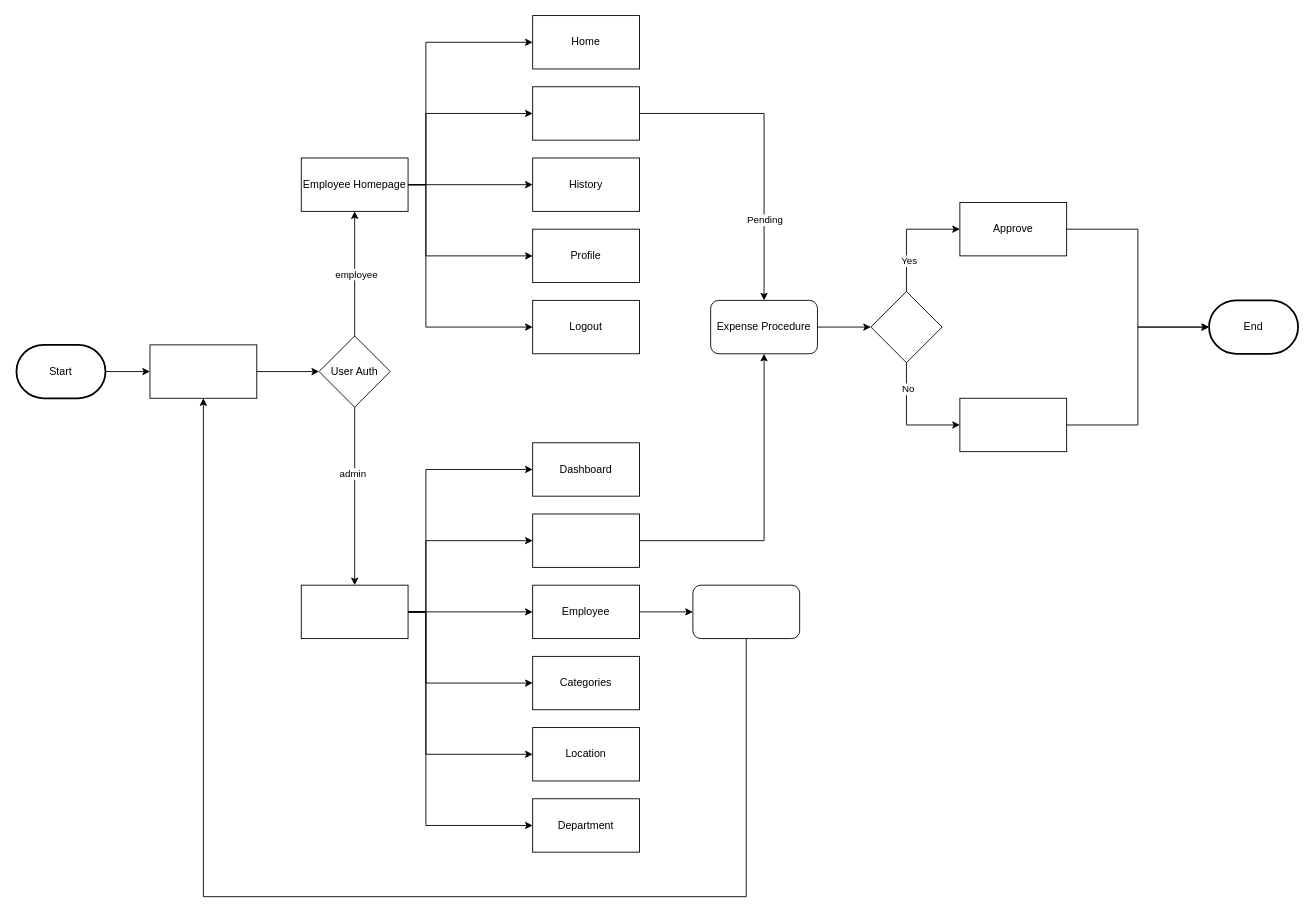
This 1314x919 diagram has some shape labels left out. The shapes that lost their labels are listed below. From the top down, each one's box as (x1, y1, x2, y2) in pixels, then its label:
(532, 86, 639, 140): Expense
(870, 291, 942, 363): Check
(149, 344, 257, 398): Login
(959, 397, 1067, 452): Reject
(532, 513, 639, 567): Expense List
(300, 584, 408, 639): Admin Dashboard
(692, 584, 800, 639): Register
